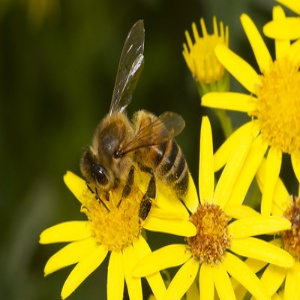bee: (80, 17, 191, 216)
